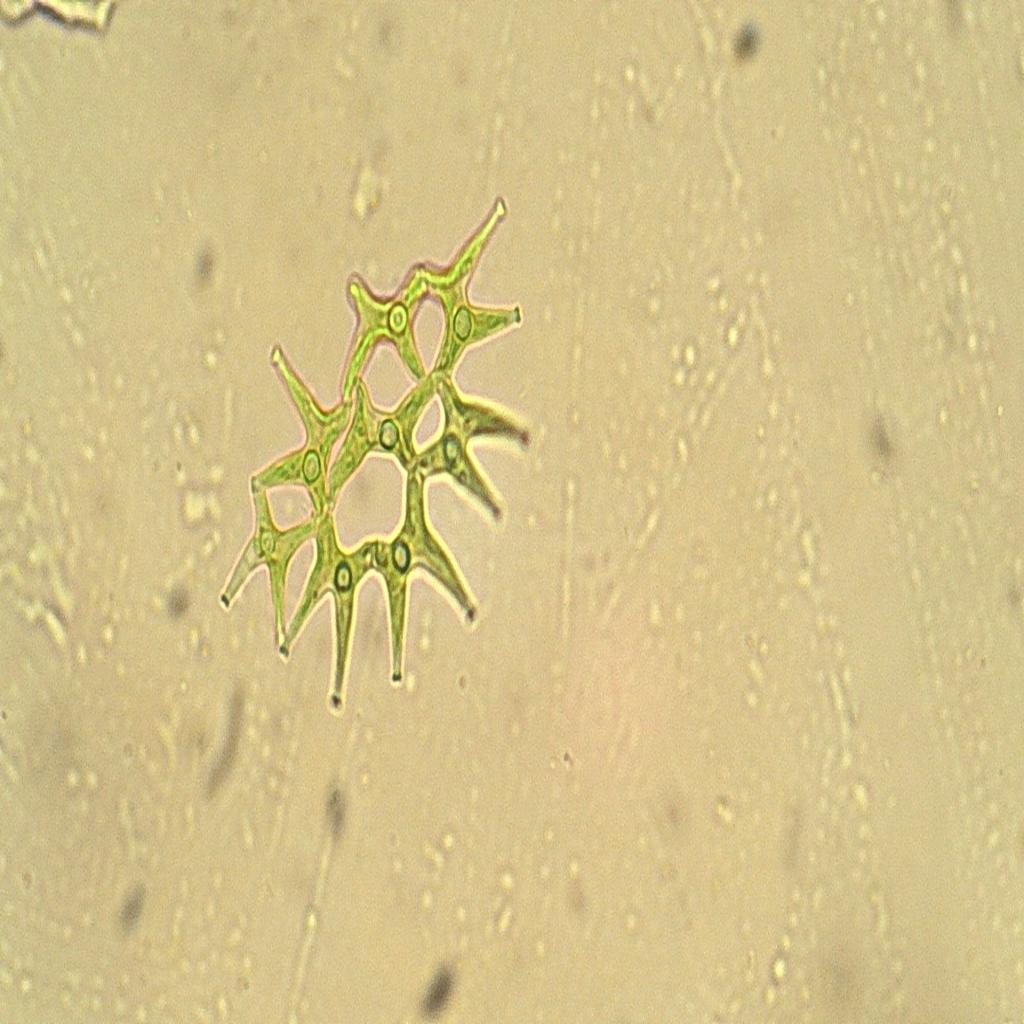Pediastrum_CFI: (208, 186, 551, 712)
